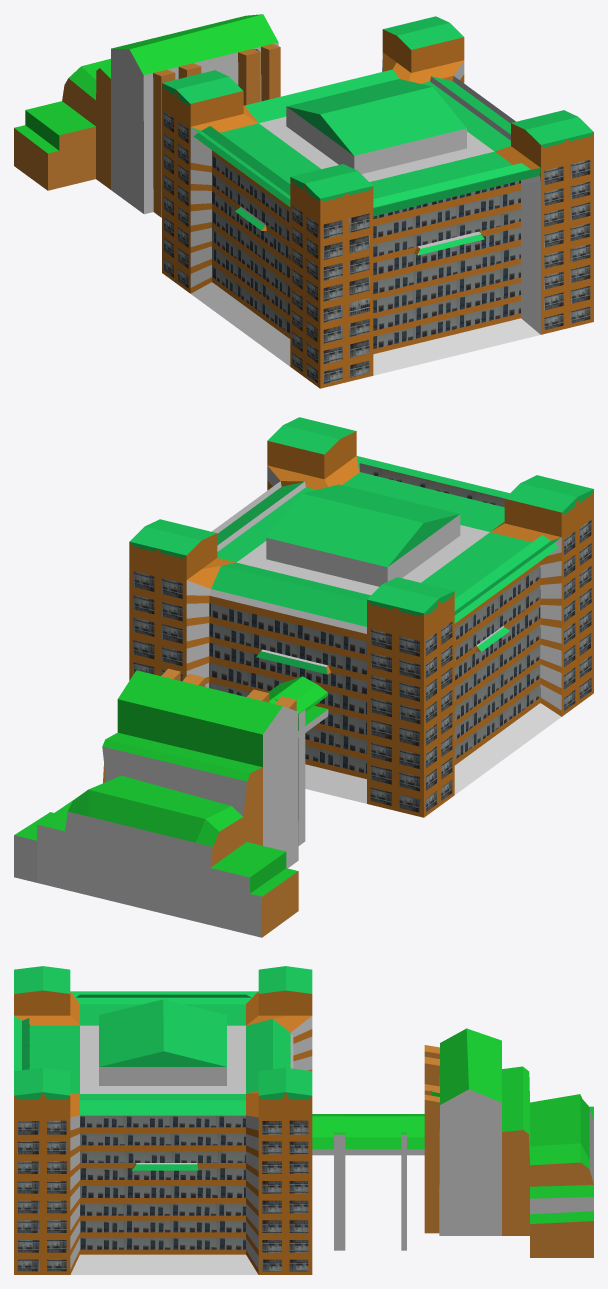
Rendered from him1.fbx.
3 views of the same model, one above another, from view 1: azimuth 30°, elevation 25°; view 2: azimuth 150°, elevation 25°; view 3: azimuth 270°, elevation 25° (orthographic). The views are drawn at different scales.
Parts seen in each view (by area): view 1: hostel, mess; view 2: hostel, mess; view 3: hostel, mess.
Boxes of the visible parts, x1=… form: hostel: x1=162, y1=16, x2=593, y2=388; mess: x1=14, y1=14, x2=280, y2=217; hostel: x1=129, y1=417, x2=593, y2=817; mess: x1=14, y1=668, x2=328, y2=937; hostel: x1=14, y1=966, x2=312, y2=1274; mess: x1=312, y1=1028, x2=593, y2=1257.
Size of the model in its own units: 200 by 164 by 389.
